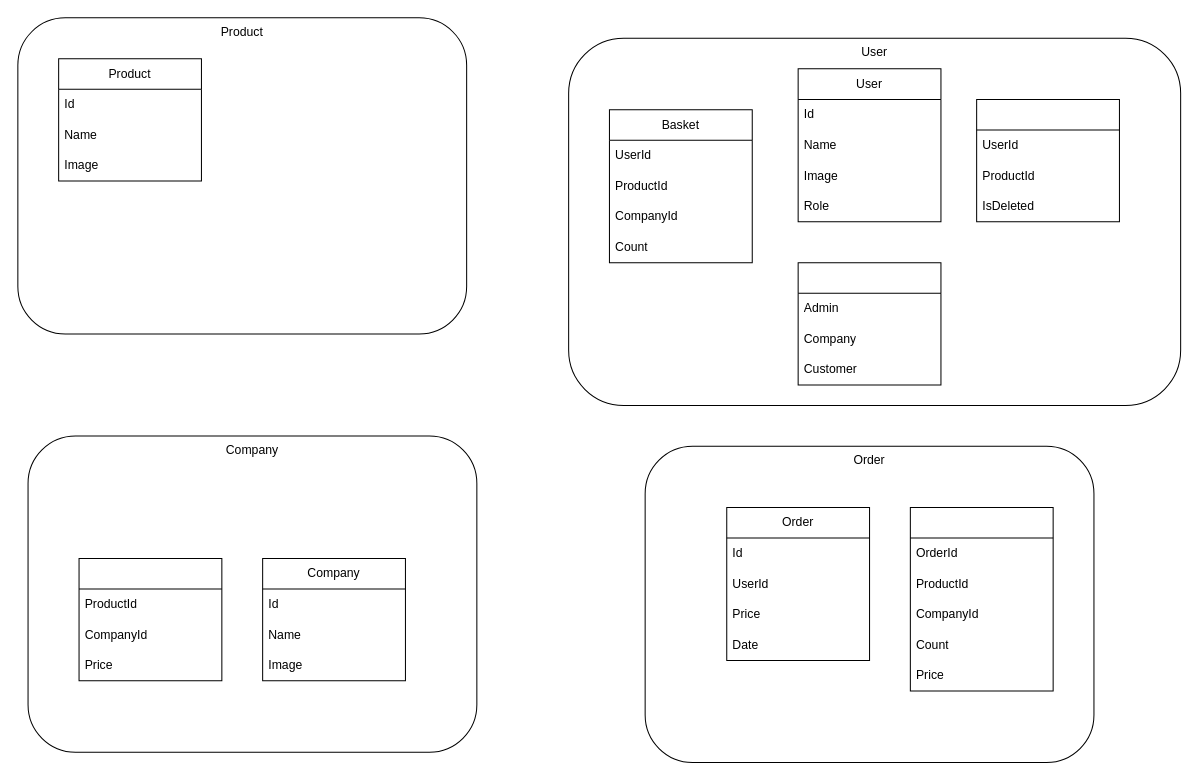
Image size: 1199x780. Some labels were removed from this diagram. The shapes that lost their labels are listed below. From the top down, each one's box as (x1, y1, x2, y2) in pixels, then its label:
(976, 98, 1119, 222): ProductFavorit
(797, 262, 941, 385): UserType
(909, 506, 1053, 691): OrderDetail
(78, 557, 222, 681): CompanyProduct
